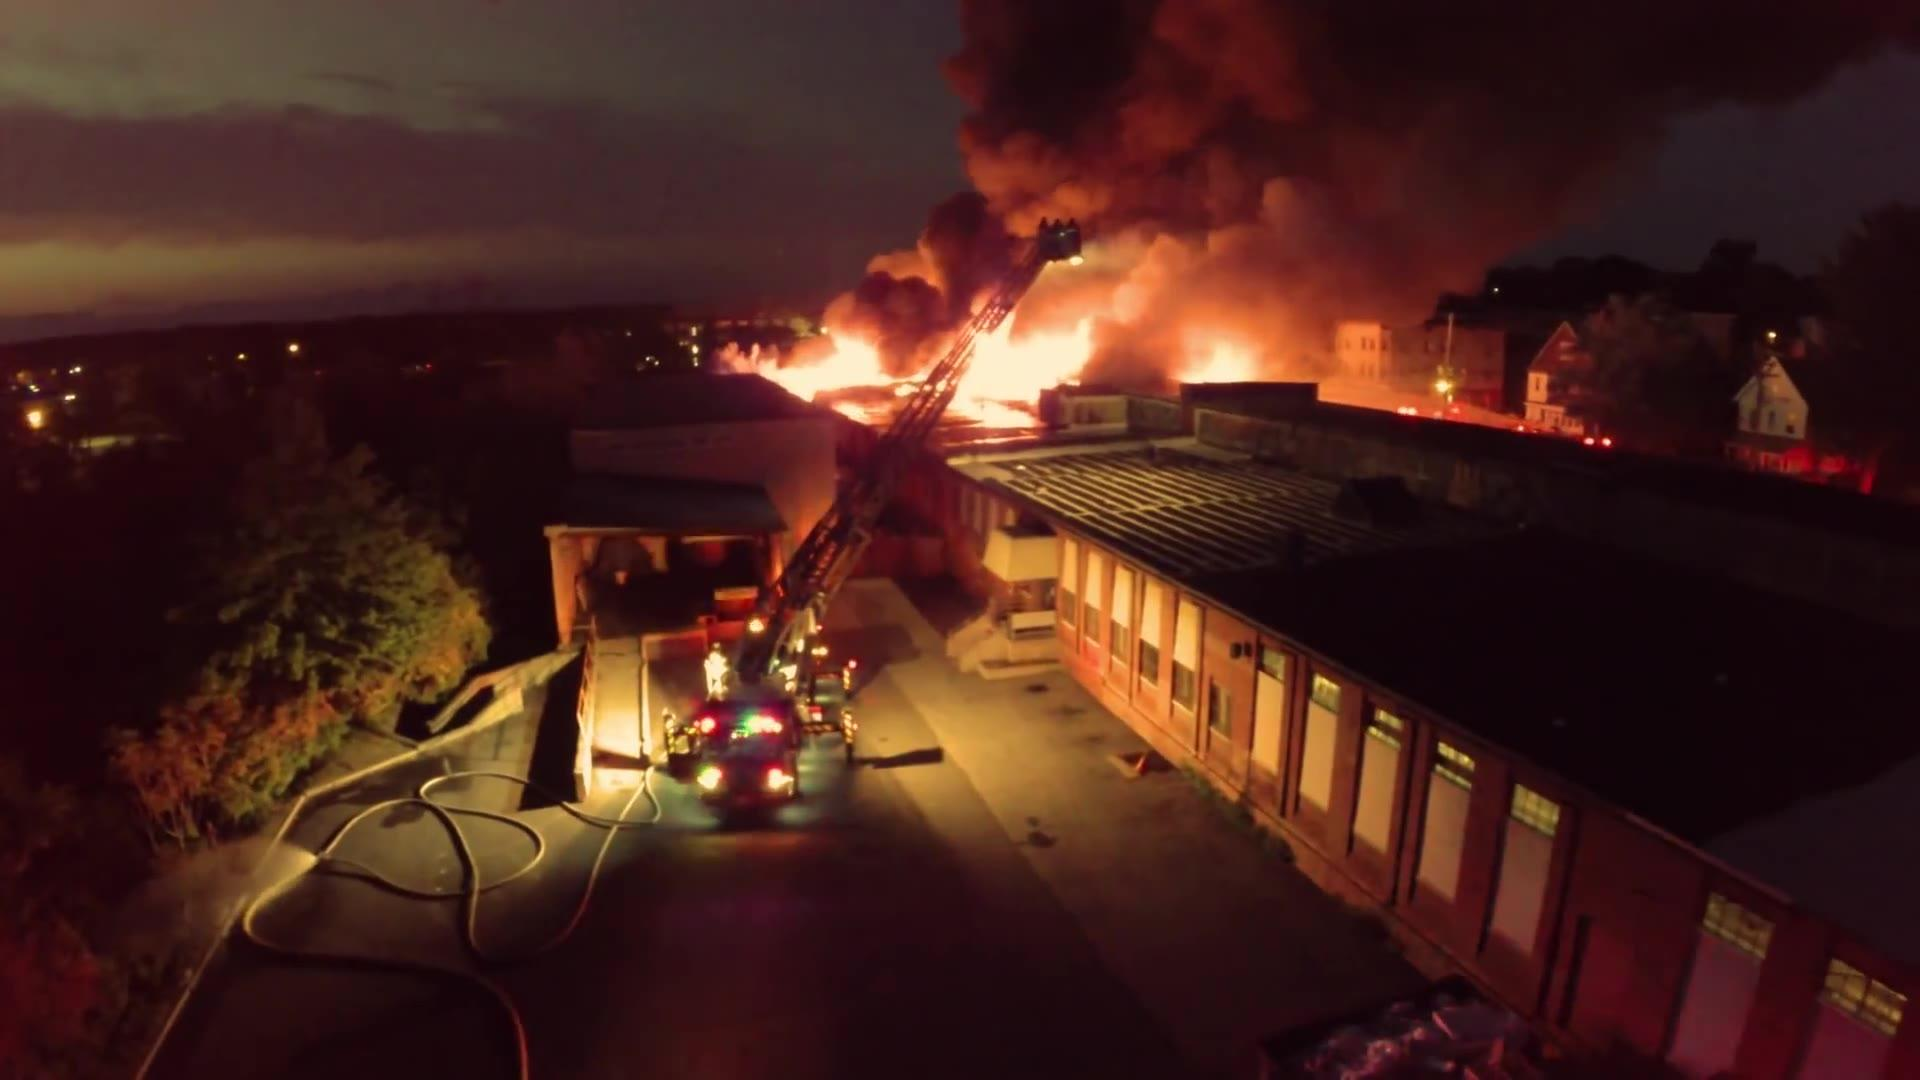fire: (974, 334, 1080, 399), (821, 319, 876, 383)
smoke: (1004, 24, 1516, 281)
